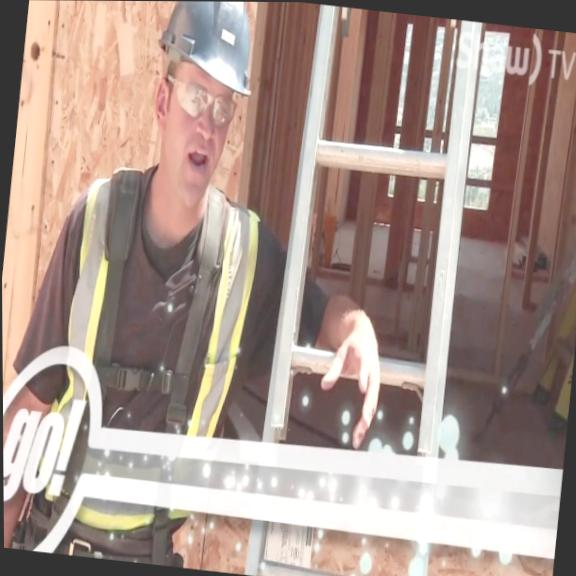safety_vest: (28, 153, 271, 545)
